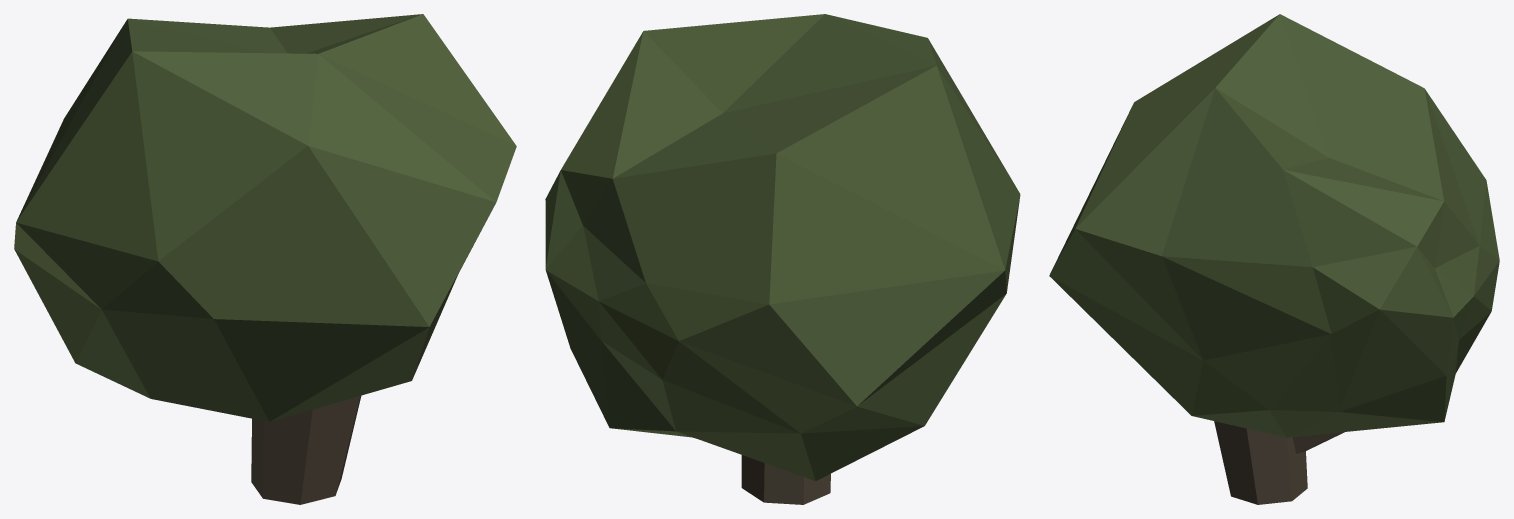
File: Bushes D, 3.fbx
The picture shows the model from 3 angles, left to right: view 1: azimuth 30°, elevation 25°; view 2: azimuth 150°, elevation 25°; view 3: azimuth 270°, elevation 25°; orthographic projection. The views are drawn at different scales.
Visible parts, largest first — view 1: Icosphere.003; view 2: Icosphere.003; view 3: Icosphere.003.
Part boxes in pixels (<box>): Icosphere.003: <box>14,14,516,504</box>; Icosphere.003: <box>545,14,1020,504</box>; Icosphere.003: <box>1049,14,1499,504</box>.
Size of the model in its own units: 439 by 457 by 457.
